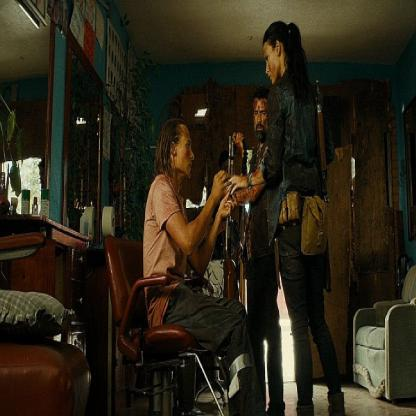Gun: (310, 74, 337, 292), (219, 124, 245, 310)
